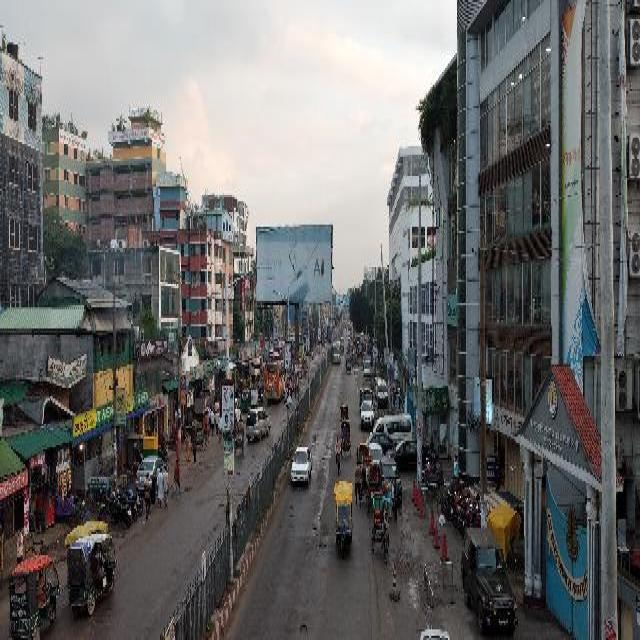bike: (123, 482, 144, 514), (26, 531, 51, 554), (453, 505, 480, 526), (461, 509, 482, 534), (113, 497, 132, 524), (90, 499, 110, 522), (445, 492, 463, 517), (121, 494, 138, 519), (161, 431, 174, 446), (128, 458, 137, 479), (440, 488, 447, 512), (422, 463, 436, 474), (160, 442, 169, 457), (336, 447, 341, 473), (293, 376, 296, 393), (312, 350, 314, 360), (347, 326, 348, 330)
vehicle: (461, 525, 518, 631), (10, 553, 61, 636), (67, 536, 117, 610), (335, 479, 354, 555), (385, 438, 429, 470), (136, 454, 168, 492), (373, 494, 390, 562), (371, 414, 414, 438), (382, 455, 402, 503), (247, 406, 272, 438), (367, 460, 382, 511), (292, 445, 312, 483), (265, 362, 283, 400), (360, 386, 374, 428), (367, 433, 397, 448), (361, 454, 370, 500), (343, 418, 352, 459), (235, 421, 245, 453), (370, 441, 384, 462), (378, 378, 388, 404), (341, 404, 349, 431), (358, 441, 368, 462), (334, 338, 341, 363), (242, 390, 250, 409), (301, 342, 308, 359), (365, 357, 372, 374), (347, 355, 352, 372), (304, 360, 308, 375), (353, 353, 357, 365), (342, 341, 345, 352), (355, 344, 358, 353)
